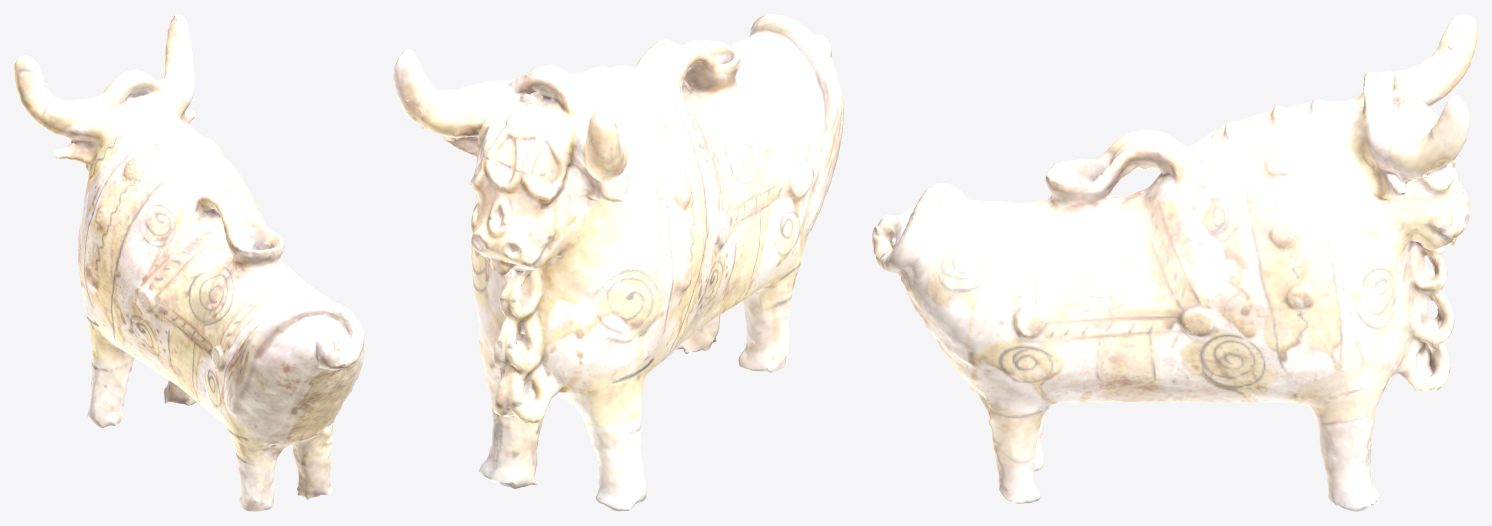
3 views of the same model, side by side, from view 1: azimuth 30°, elevation 25°; view 2: azimuth 150°, elevation 25°; view 3: azimuth 270°, elevation 25° (orthographic). The views are drawn at different scales.
Parts seen in each view (by area): view 1: Object_2; view 2: Object_2; view 3: Object_2.
Part boxes in pixels (x1,y1,x2,y2): Object_2: (14, 14, 364, 511); Object_2: (393, 14, 843, 511); Object_2: (872, 14, 1477, 511).
Bounding box in the file's own units: 2.85 × 5.62 × 7.12.
